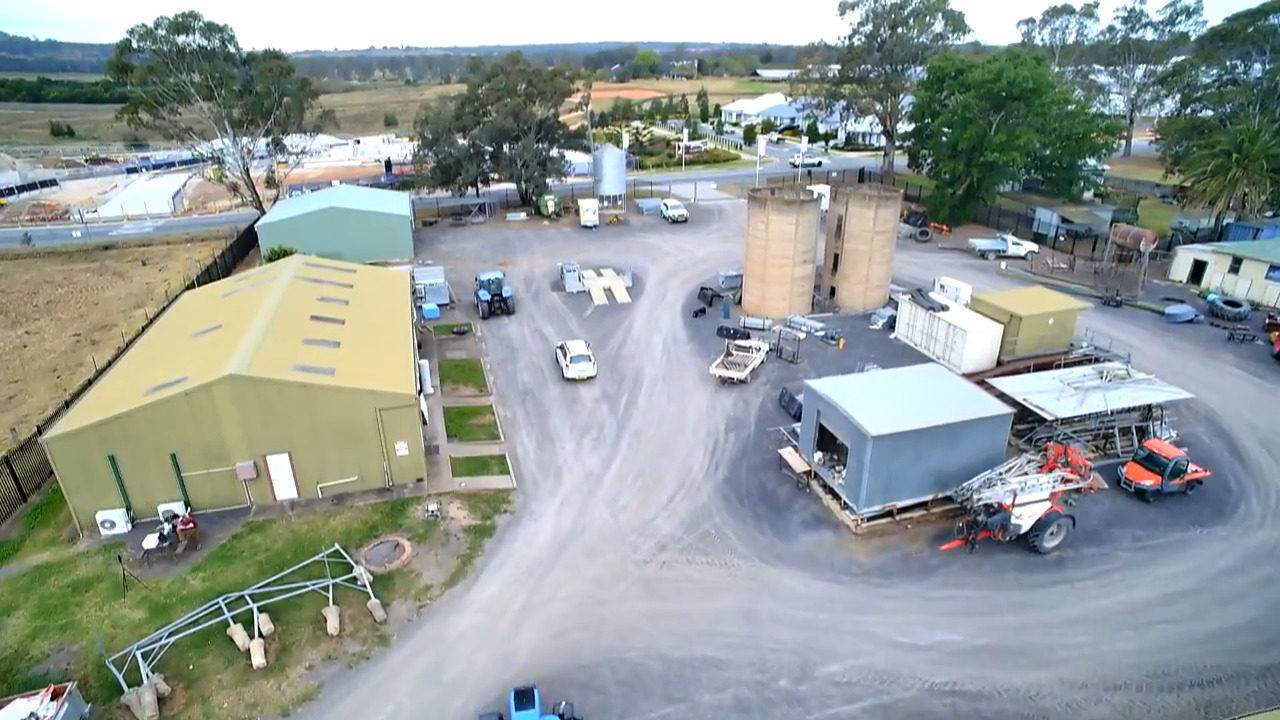Car: (554, 339, 597, 381), (659, 199, 689, 223)
